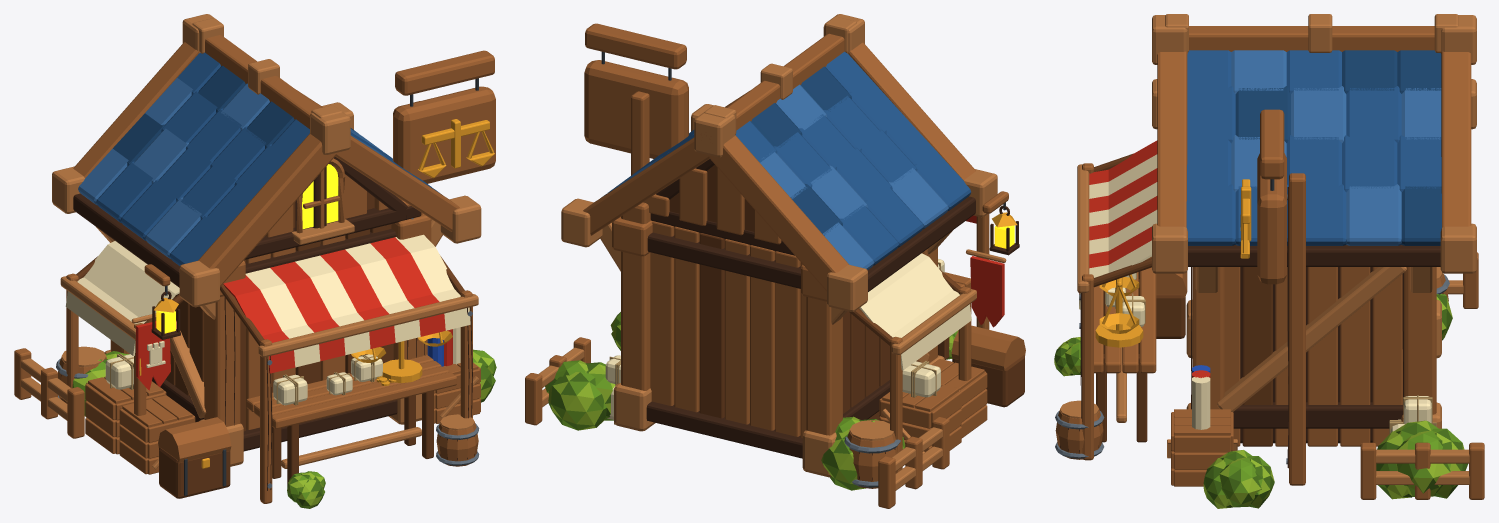
The model's file is trade_market.glb.
3 renders of one model, left to right at view 1: azimuth 30°, elevation 25°; view 2: azimuth 150°, elevation 25°; view 3: azimuth 270°, elevation 25°, orthographic. The views are drawn at different scales.
Parts seen in each view (by area): view 1: Carved hanging sign, Carved roof verge, Linen work canopy, Corner upright, Carved roof verge.002, Carved roof verge.001, Awning front beam, Table top plank, Ridge timber, Sign bracket, Canvas canopy stripe.002, Canvas canopy stripe.003 (+81 smaller); view 2: Carved hanging sign, Carved roof verge.001, Linen work canopy, Corner upright.001, Corner upright.003, Wall timber board.011, Wall timber board.005, Wall timber board.009, Wall timber board.003, Wall timber board.007, Wall timber board.013, Carved roof verge.003 (+66 smaller); view 3: Ridge timber, Carved roof verge.003, Carved roof verge.002, Trade sign post, Roof eave.001, Side wall diagonal.001, Side timber board.007, Side timber board.009, Side timber board.011, Side timber board.003, Corner upright.003, Side wall lower tie.001 (+75 smaller).
Part boxes in pixels (left/top/right/bottom): Carved hanging sign: left=393, top=86, right=495, bottom=183; Carved roof verge: left=198, top=133, right=336, bottom=286; Linen work canopy: left=65, top=241, right=179, bottom=355; Corner upright: left=204, top=296, right=240, bottom=426; Carved roof verge.002: left=335, top=135, right=459, bottom=231; Carved roof verge.001: left=73, top=42, right=198, bottom=177; Awning front beam: left=258, top=294, right=478, bottom=357; Table top plank: left=272, top=372, right=456, bottom=428; Ridge timber: left=205, top=35, right=320, bottom=128; Sign bracket: left=395, top=50, right=494, bottom=95; Canvas canopy stripe.002: left=270, top=261, right=345, bottom=361; Canvas canopy stripe.003: left=295, top=255, right=370, bottom=355; Carved hanging sign: left=584, top=60, right=688, bottom=158; Carved roof verge.001: left=708, top=135, right=849, bottom=291; Linen work canopy: left=859, top=253, right=971, bottom=370; Corner upright.001: left=806, top=297, right=842, bottom=435; Corner upright.003: left=621, top=202, right=650, bottom=390; Wall timber board.011: left=674, top=226, right=699, bottom=412; Wall timber board.005: left=750, top=245, right=775, bottom=430; Wall timber board.009: left=699, top=233, right=724, bottom=418; Wall timber board.003: left=775, top=251, right=800, bottom=436; Wall timber board.007: left=725, top=239, right=750, bottom=424; Wall timber board.013: left=650, top=221, right=674, bottom=405; Carved roof verge.003: left=583, top=137, right=709, bottom=235; Ridge timber: left=1189, top=26, right=1434, bottom=51; Carved roof verge.003: left=1441, top=51, right=1471, bottom=227; Carved roof verge.002: left=1157, top=51, right=1187, bottom=227; Trade sign post: left=1289, top=173, right=1305, bottom=485; Roof eave.001: left=1188, top=245, right=1440, bottom=266; Side wall diagonal.001: left=1217, top=267, right=1406, bottom=411; Side timber board.007: left=1307, top=267, right=1337, bottom=446; Side timber board.009: left=1340, top=267, right=1370, bottom=446; Side timber board.011: left=1372, top=267, right=1402, bottom=446; Side timber board.003: left=1242, top=267, right=1272, bottom=446; Corner upright.003: left=1404, top=267, right=1436, bottom=414; Side wall lower tie.001: left=1233, top=402, right=1403, bottom=428.
Size of the model in its own units: 4.22 by 3.67 by 3.58.
